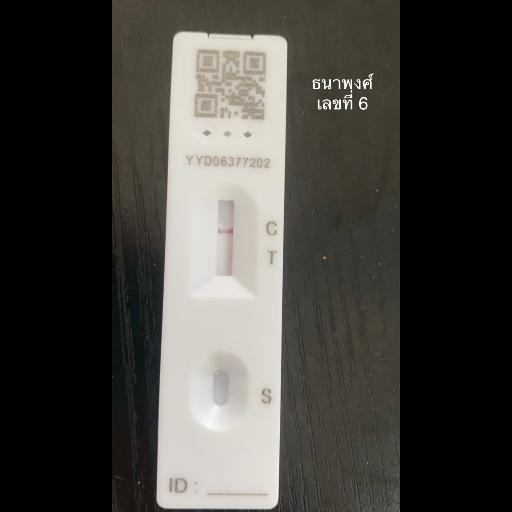Neg: (156, 32, 285, 507)
